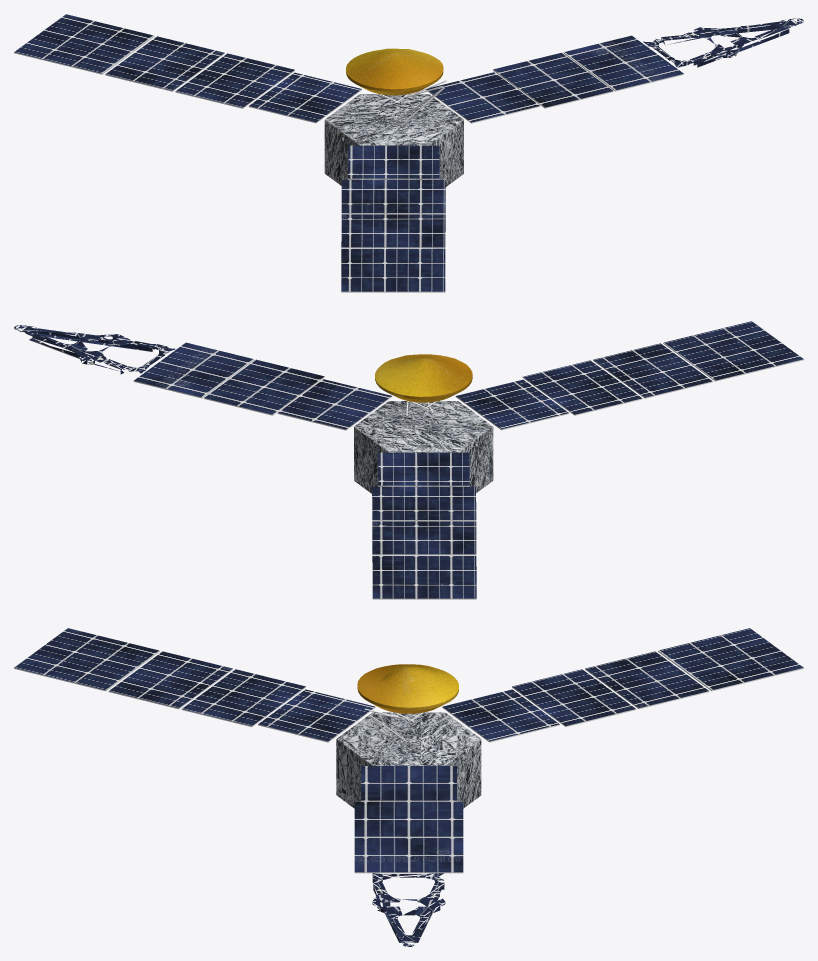
Rendered from sonda juno.fbx.
3 renders of one model, top to bottom at view 1: azimuth 30°, elevation 25°; view 2: azimuth 150°, elevation 25°; view 3: azimuth 270°, elevation 25°, orthographic. The views are drawn at different scales.
Parts seen in each view (by area): view 1: shiny_panels, silver_foil.002, dish_crosses, BLACK, solar_panels, dish_bottom; view 2: shiny_panels, silver_foil.002, dish_crosses, solar_panels, BLACK; view 3: shiny_panels, silver_foil.002, dish_crosses, BLACK, solar_panels.
Part boxes in pixels (box(x1,y1,x2,y2)): shiny_panels: box(14, 14, 683, 291); silver_foil.002: box(324, 94, 463, 186); dish_crosses: box(346, 48, 443, 88); BLACK: box(14, 36, 683, 292); solar_panels: box(643, 18, 803, 67); dish_bottom: box(346, 71, 443, 95); shiny_panels: box(134, 321, 803, 598); silver_foil.002: box(354, 401, 493, 493); dish_crosses: box(375, 354, 472, 396); solar_panels: box(14, 325, 175, 374); BLACK: box(133, 343, 803, 599); shiny_panels: box(14, 628, 803, 872); silver_foil.002: box(336, 712, 481, 808); dish_crosses: box(357, 664, 458, 707); BLACK: box(14, 651, 803, 873); solar_panels: box(372, 873, 445, 946).
Size of the model in its own units: 1765 by 328 by 1854.
4 materials, 4 textured.
